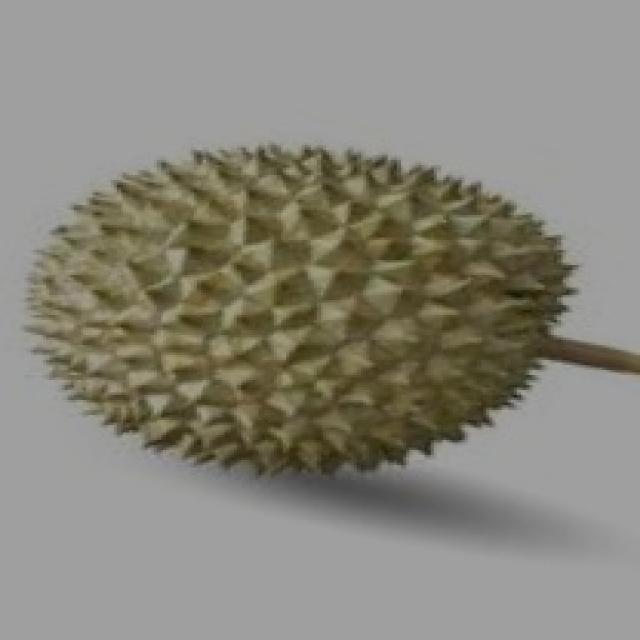fruit: (0, 133, 363, 555), (293, 110, 622, 530)
